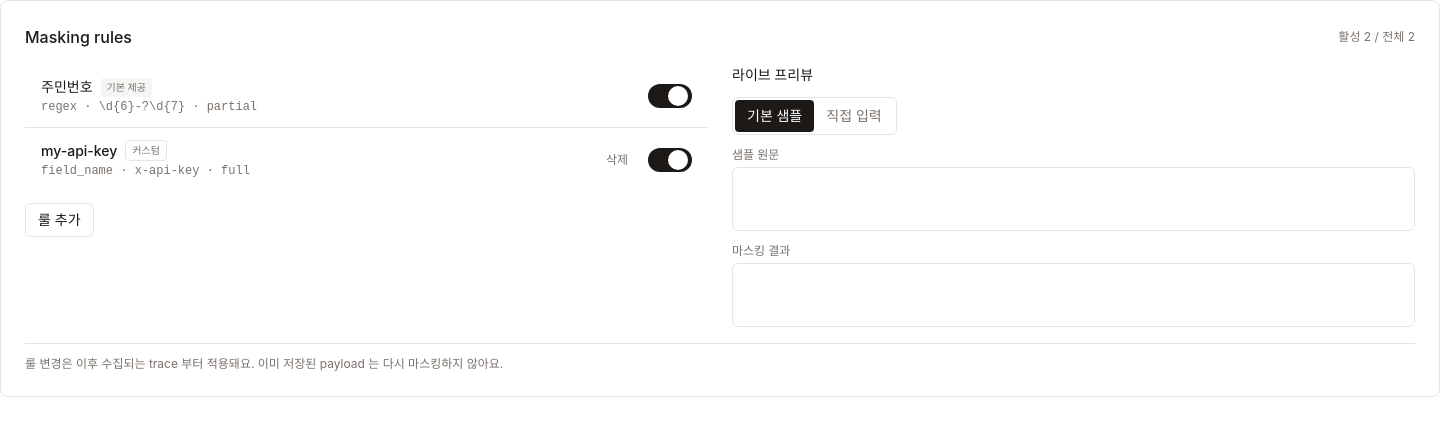
MaskingRulesSection — [R12] 토글 낙관 모델 + 프리뷰 동봉 › showsDirtyNoticeWhileToggleUnconfirmed — T-23: 화면 ≠ 서버 확인 상태 구간에만 안내 노출
Expected: the text "저장 전 변경 사항이 프리뷰에 반영되고 있어요." is not shown
What coordinates should you click on to do the following:
click the switch named "주민번호 활성화"
I would click on:
 (670, 96)
Its box is 648,84 -> 692,108.
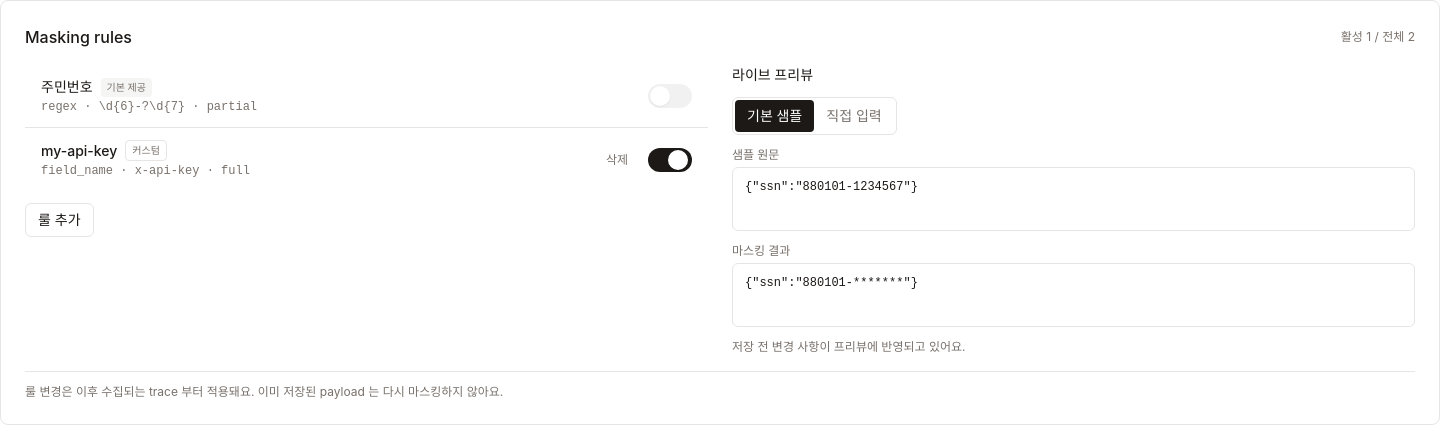
Expected: the text "저장 전 변경 사항이 프리뷰에 반영되고 있어요." is shown, 732,339 -> 966,354
